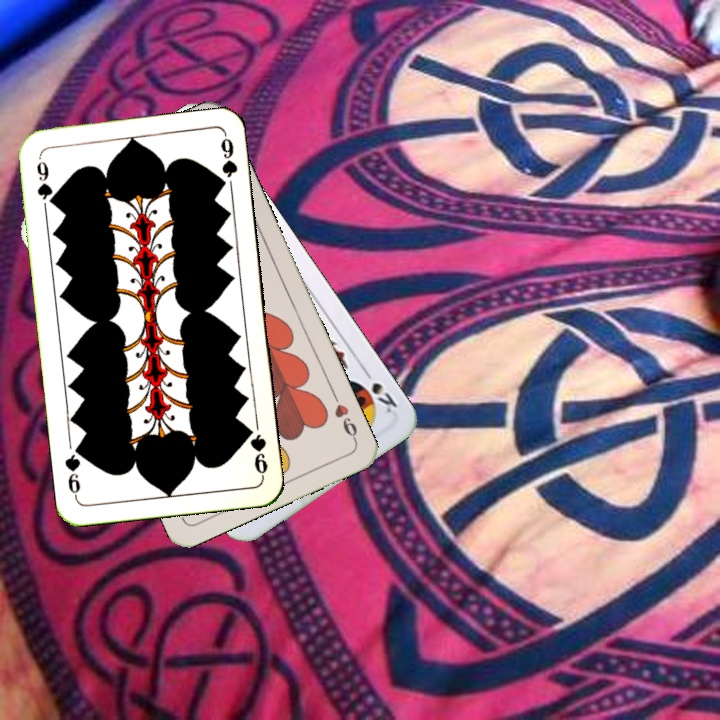G9: (241, 422, 270, 480), (33, 153, 57, 209)
H9: (328, 389, 360, 445)
SK: (358, 364, 400, 416)
